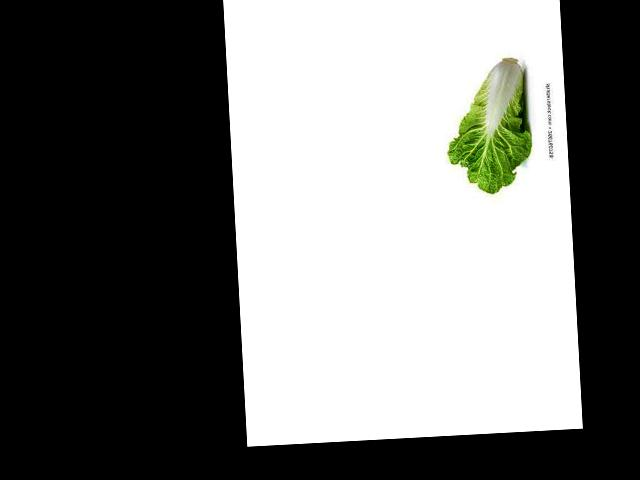lettuce: (454, 61, 531, 183)
